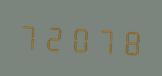eight: (118, 21, 142, 59)
seven: (18, 16, 42, 53), (93, 20, 117, 57)
two: (43, 18, 67, 55)
zero: (68, 19, 92, 56)
